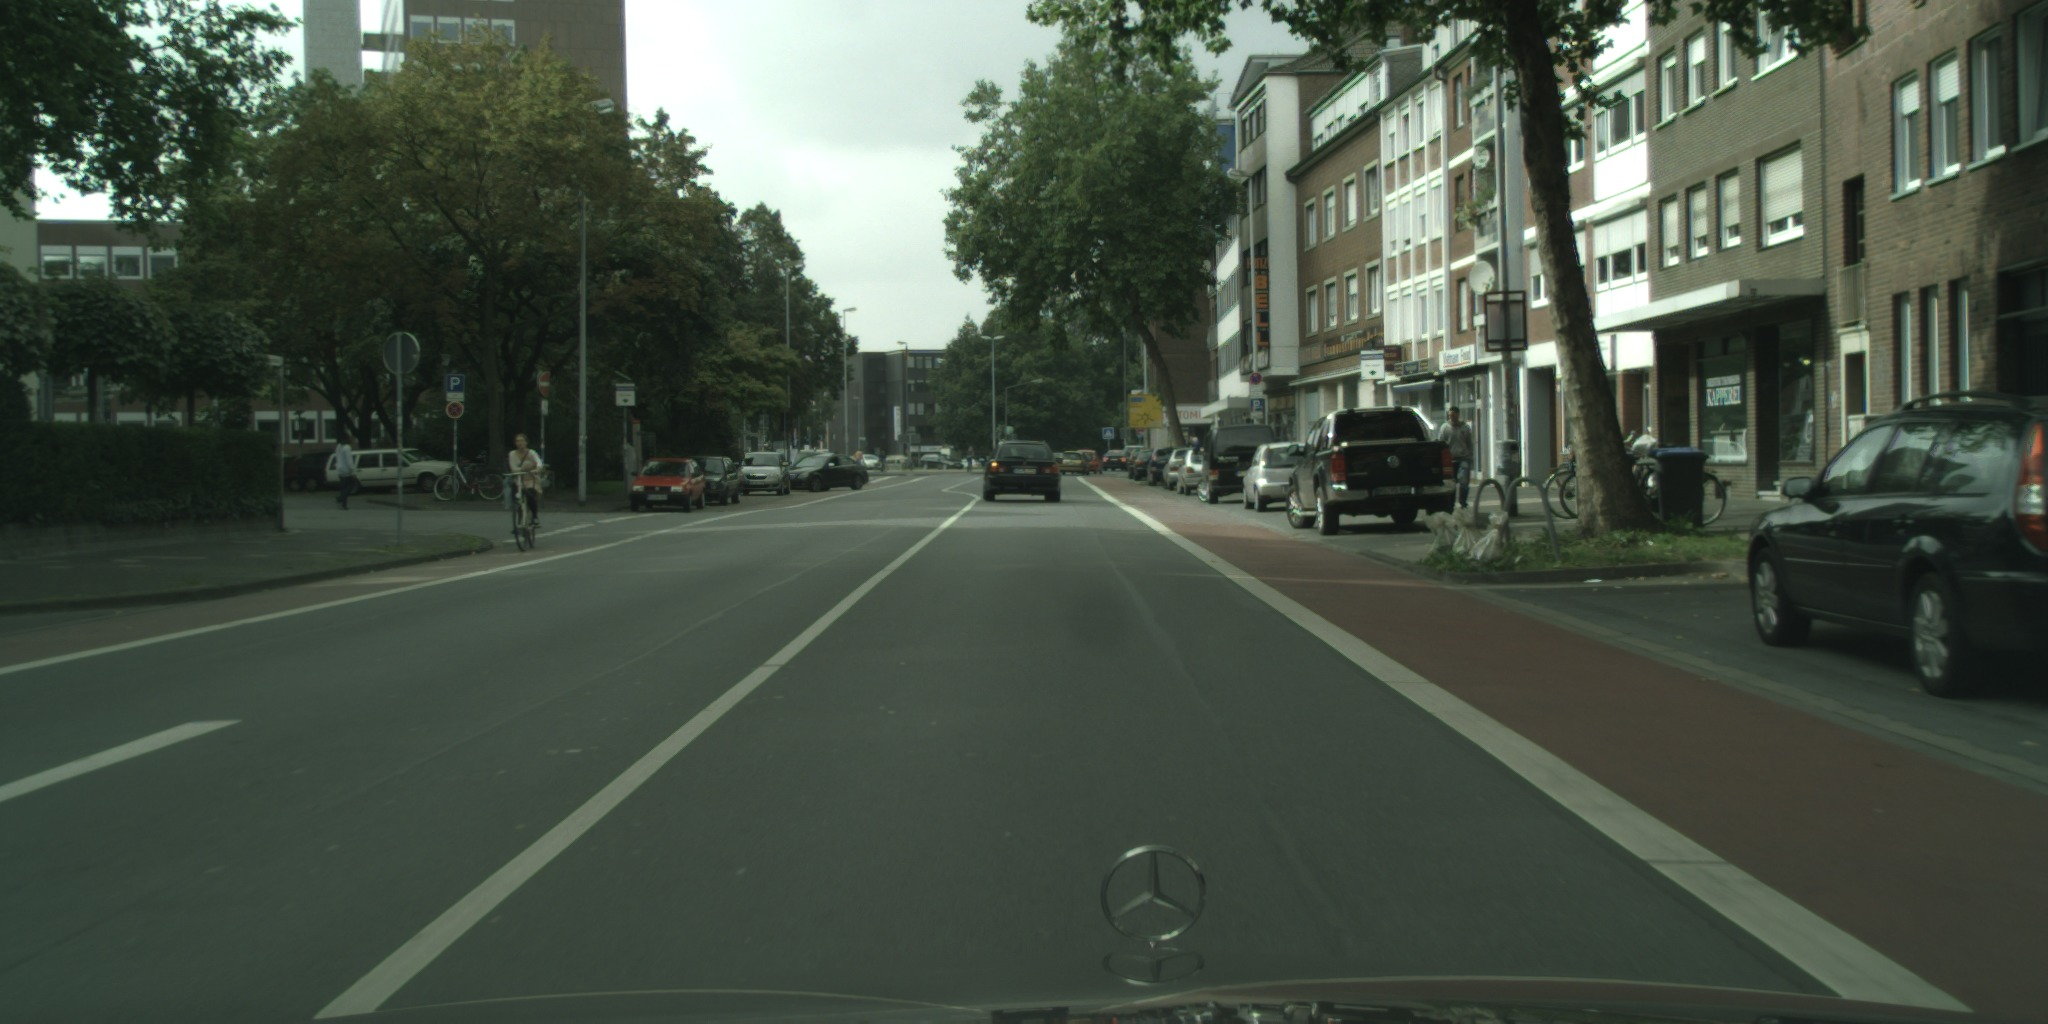bicycle: (1621, 441, 1734, 533), (1540, 425, 1648, 520), (1560, 433, 1675, 522), (433, 456, 507, 501), (501, 470, 538, 551)
car: (1746, 391, 2048, 699), (1284, 405, 1457, 536), (1195, 423, 1281, 506), (324, 448, 463, 494), (978, 440, 1064, 502), (1242, 440, 1312, 513), (630, 458, 706, 513), (776, 453, 868, 492), (687, 456, 744, 506), (735, 452, 790, 497), (296, 448, 344, 492), (1146, 446, 1182, 487), (272, 454, 311, 492), (1161, 447, 1192, 492), (1177, 452, 1207, 497), (1127, 449, 1164, 482), (916, 452, 963, 471), (1060, 451, 1089, 476), (1076, 450, 1103, 474), (1101, 449, 1129, 472), (854, 452, 882, 471), (1118, 445, 1145, 462), (960, 454, 990, 468), (940, 447, 962, 462), (1049, 451, 1067, 469)
person: (1434, 406, 1474, 509), (507, 431, 546, 537), (336, 431, 363, 512), (1185, 432, 1201, 452), (880, 448, 886, 474)
rider: (507, 431, 546, 537)
